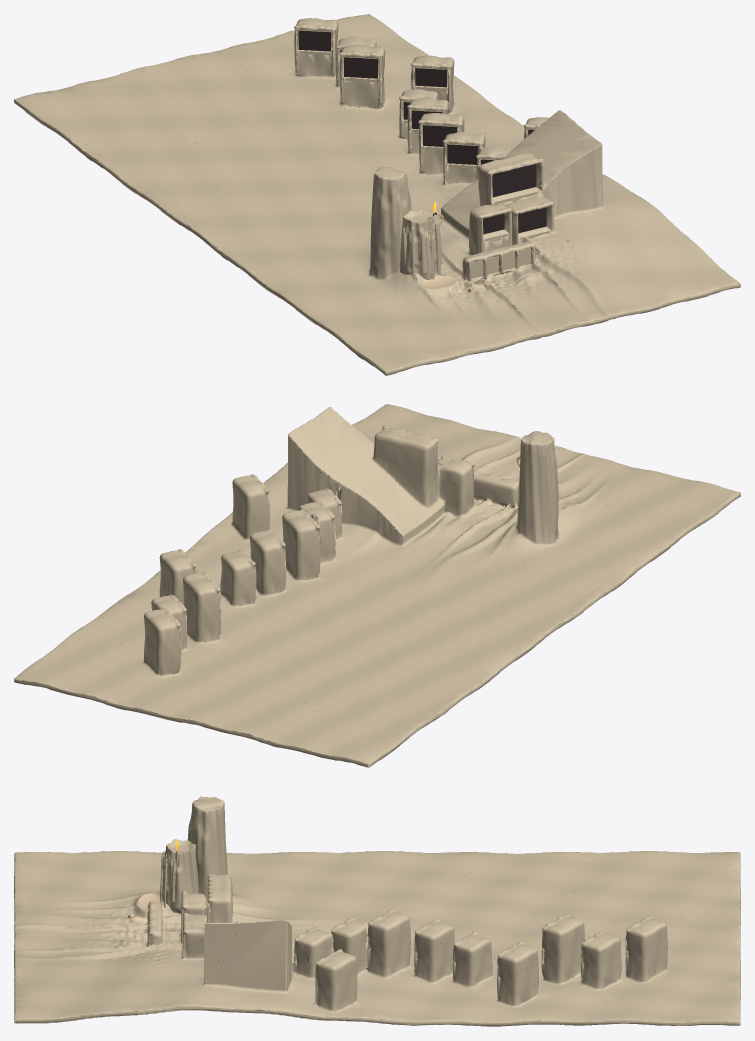
3 renders of one model, top to bottom at view 1: azimuth 30°, elevation 25°; view 2: azimuth 150°, elevation 25°; view 3: azimuth 270°, elevation 25°, orthographic. The views are drawn at different scales.
Visible parts, largest first — view 1: continuous_sculpted_wax_mass, tapered_front_candle, archive_got-s4, archive_breaking-bad-final, archive_house-of-cards-s2, archive_dexter-s7-finale; view 2: continuous_sculpted_wax_mass; view 3: continuous_sculpted_wax_mass, tapered_front_candle.
Boxes of the visible parts, <box> form: continuous_sculpted_wax_mass: <box>14,14,740,375</box>; tapered_front_candle: <box>400,209,442,279</box>; archive_got-s4: <box>492,164,536,197</box>; archive_breaking-bad-final: <box>344,57,377,78</box>; archive_house-of-cards-s2: <box>298,30,330,51</box>; archive_dexter-s7-finale: <box>447,144,478,164</box>; continuous_sculpted_wax_mass: <box>14,404,740,767</box>; continuous_sculpted_wax_mass: <box>14,796,740,1026</box>; tapered_front_candle: <box>160,839,198,914</box>.
Size of the model in its own units: 53.11 by 15.4 by 96.04.
9 materials, 2 textured.
